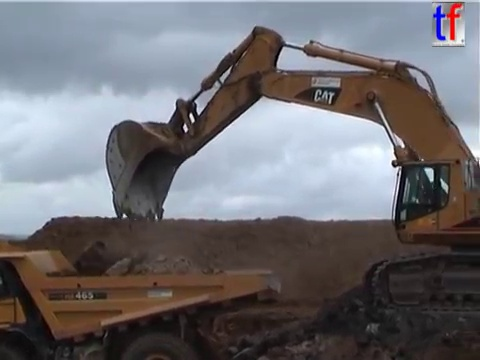excavator: (101, 22, 479, 316)
truck: (1, 237, 283, 360)
